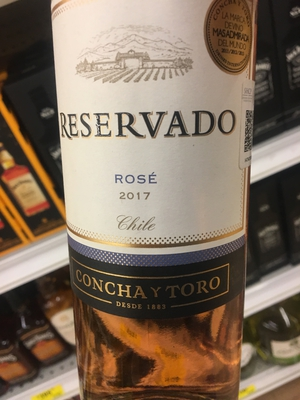reservado rose: (44, 1, 257, 394)
